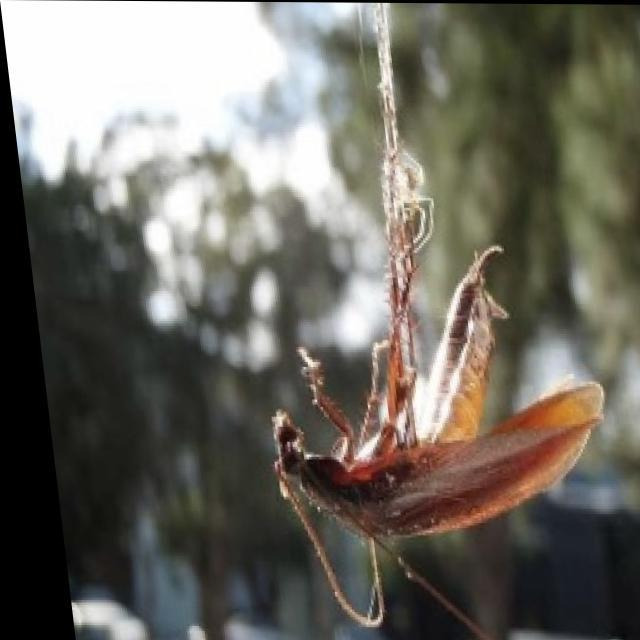cockroach: (257, 214, 609, 578)
